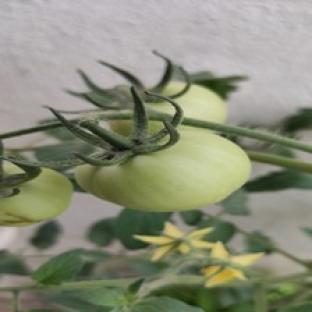Tomato: (76, 130, 250, 211), (0, 169, 72, 225), (175, 84, 228, 122)
